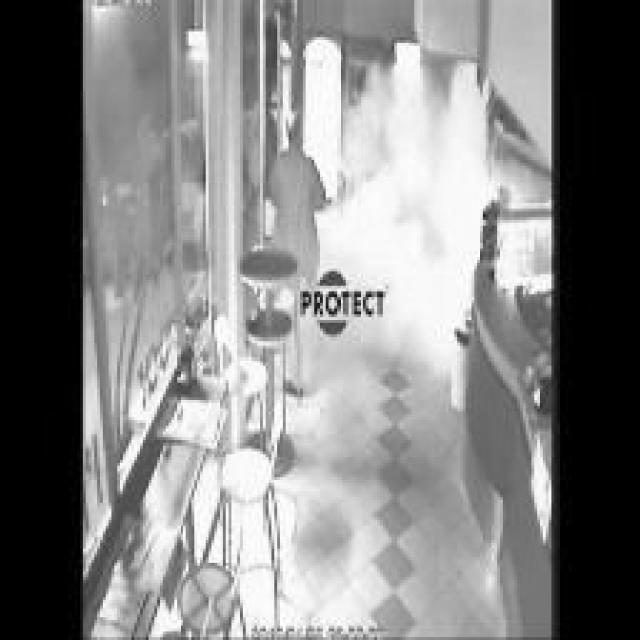fire: (343, 64, 486, 367)
